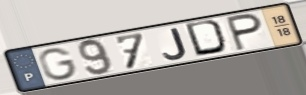7: (114, 31, 146, 71)
9: (78, 38, 116, 78)
D: (183, 18, 231, 58)
G: (37, 47, 80, 82)
J: (162, 26, 190, 61)
P: (224, 12, 265, 53)
